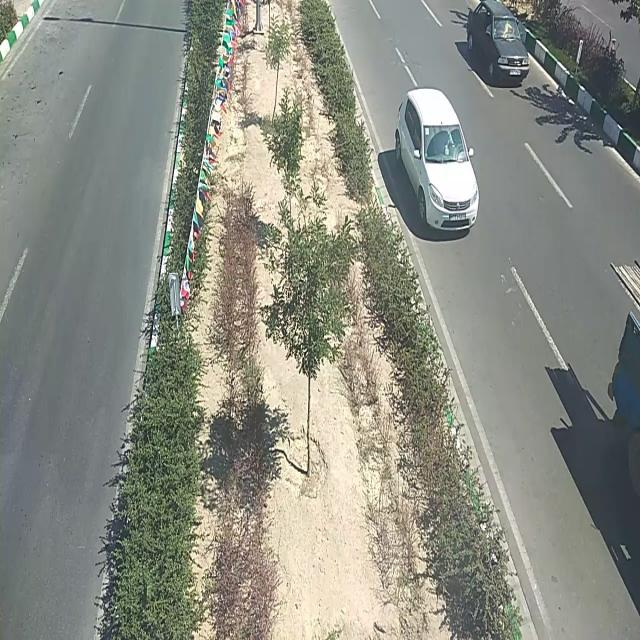car: (395, 88, 478, 238), (466, 0, 530, 86)
